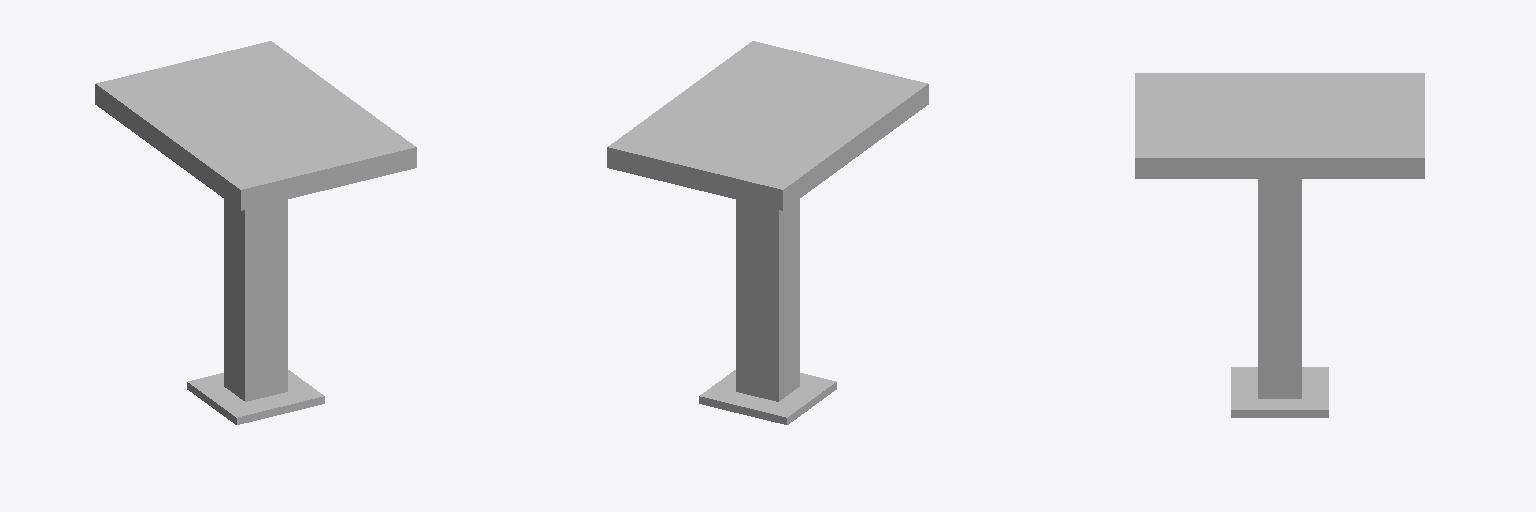
Rendered from table.obj.
3 renders of one model, left to right at view 1: azimuth 30°, elevation 25°; view 2: azimuth 150°, elevation 25°; view 3: azimuth 270°, elevation 25°, orthographic.
Visible parts, largest first — view 1: Cube.001; view 2: Cube.001; view 3: Cube.001.
Boxes of the visible parts, <box> form: Cube.001: <box>95,41,416,424</box>; Cube.001: <box>607,41,928,424</box>; Cube.001: <box>1135,73,1424,417</box>.
Size of the model in its own units: 4.36 by 6.66 by 6.24.